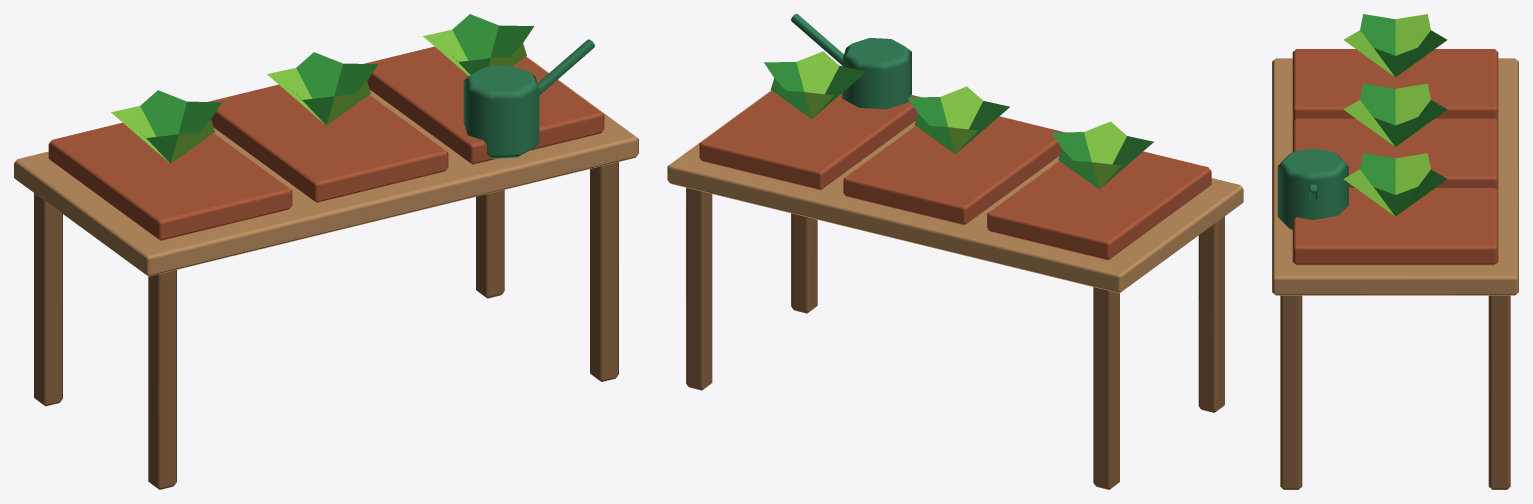
Rendered from seedling_table.glb.
3 renders of one model, left to right at view 1: azimuth 30°, elevation 25°; view 2: azimuth 150°, elevation 25°; view 3: azimuth 270°, elevation 25°, orthographic. The views are drawn at different scales.
Visible parts, largest first — view 1: seedling_table; view 2: seedling_table; view 3: seedling_table.
Part boxes in pixels (<box>): seedling_table: <box>14,14,638,489</box>; seedling_table: <box>667,14,1243,489</box>; seedling_table: <box>1272,14,1518,489</box>.
Size of the model in its own units: 1.9 by 1.21 by 0.9.
